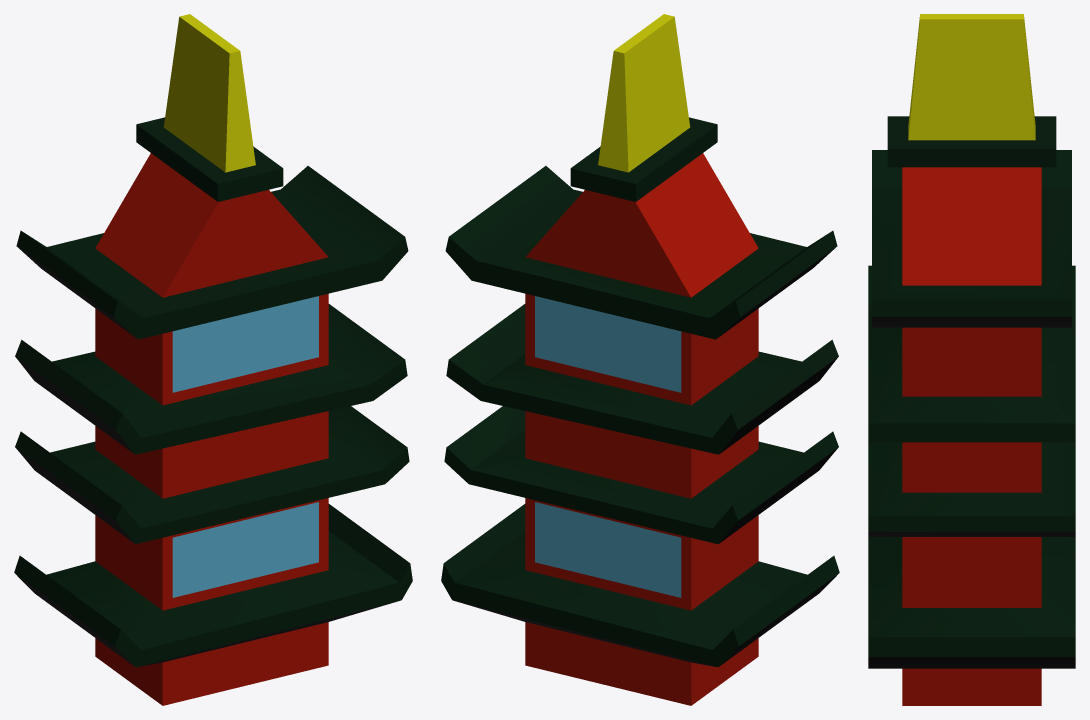
File: Edificio 1.fbx
The picture shows the model from 3 angles, left to right: view 1: azimuth 30°, elevation 25°; view 2: azimuth 150°, elevation 25°; view 3: azimuth 270°, elevation 25°; orthographic projection. The views are drawn at different scales.
Visible parts, largest first — view 1: Edificio 1; view 2: Edificio 1; view 3: Edificio 1.
Boxes of the visible parts, x1,y1,x2,y2 form: Edificio 1: [14, 14, 412, 705]; Edificio 1: [441, 14, 839, 705]; Edificio 1: [868, 14, 1075, 705].
Size of the model in its own units: 573 by 1154 by 336.
